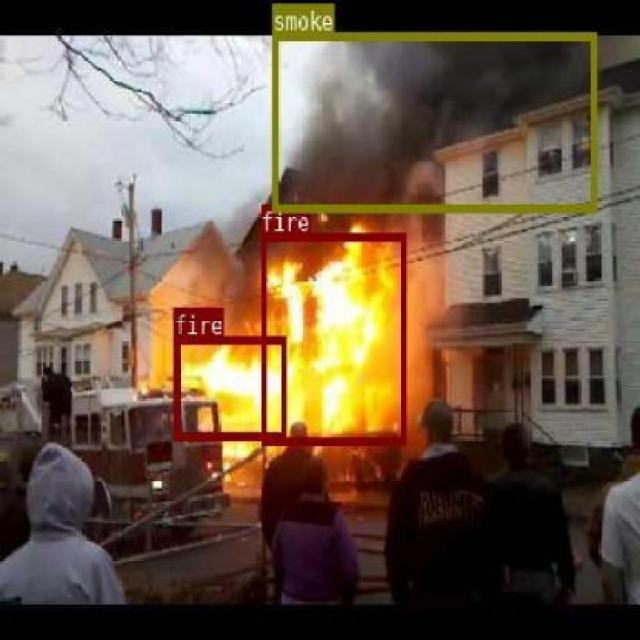CIV_Plane: (259, 232, 404, 443), (172, 336, 285, 438)
Fire: (259, 232, 404, 443), (172, 336, 285, 438)
Smoke: (270, 64, 595, 179)
